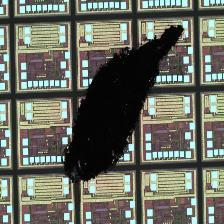PARTICLE: (58, 22, 187, 187)
